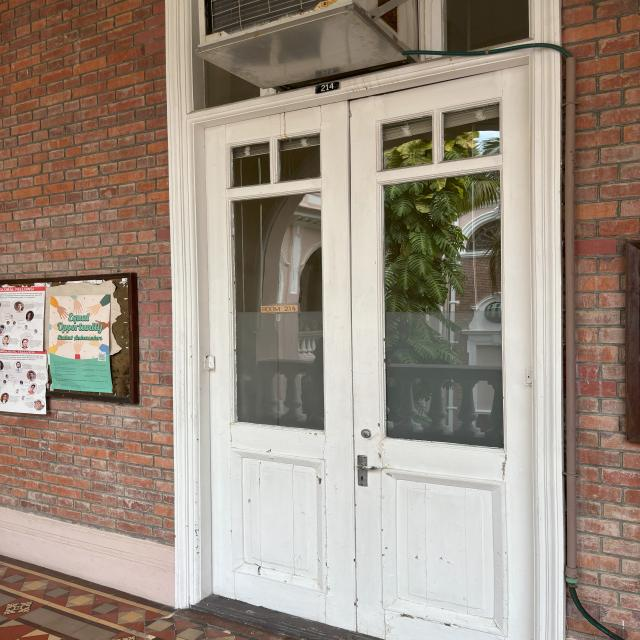MB214_cardboard: (256, 302, 304, 316)
MB214_roomNumber: (311, 78, 344, 95)
